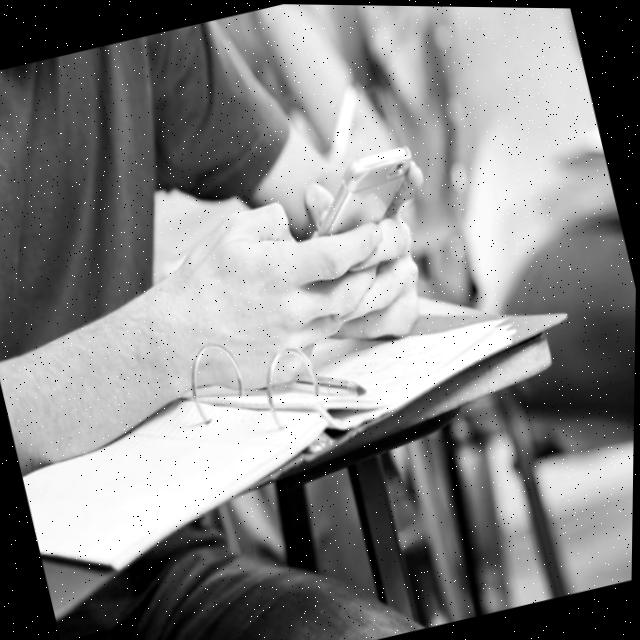phone: (266, 131, 449, 324)
